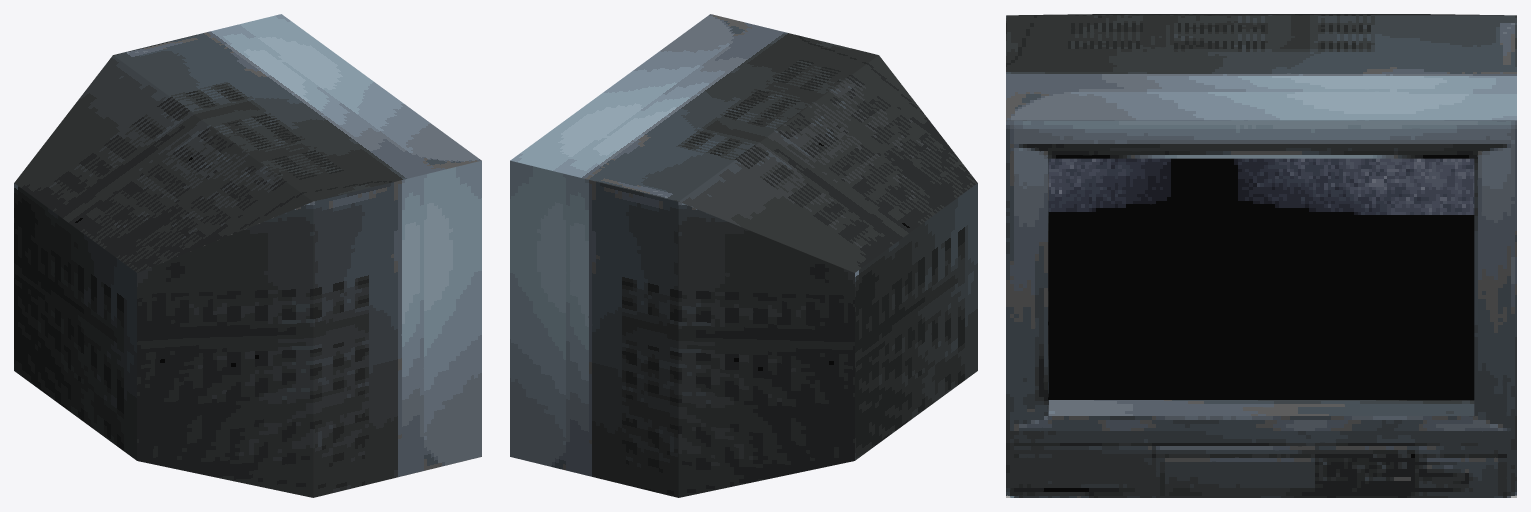
3 views of the same model, side by side, from view 1: azimuth 30°, elevation 25°; view 2: azimuth 150°, elevation 25°; view 3: azimuth 270°, elevation 25° (orthographic). The views are drawn at different scales.
Parts seen in each view (by area): view 1: tv; view 2: tv; view 3: tv.
Part boxes in pixels (<box>): tv: <box>14,14,481,497</box>; tv: <box>510,14,977,497</box>; tv: <box>1006,14,1516,497</box>.
Bounding box in the file's own units: 0.9385 × 0.8681 × 1.06.
Materials: 2 (2 with a texture image).
